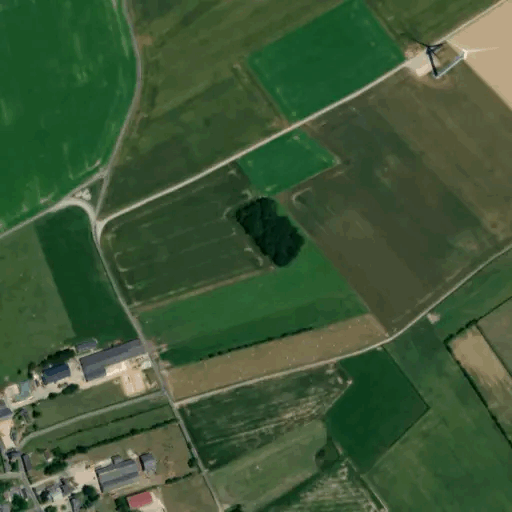wt: (399, 24, 498, 98)
